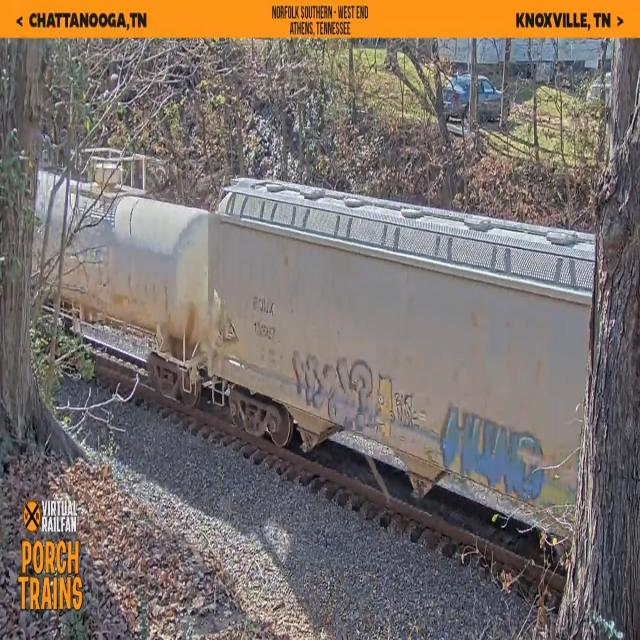hopper: (202, 162, 596, 561)
tank: (36, 158, 210, 406)
